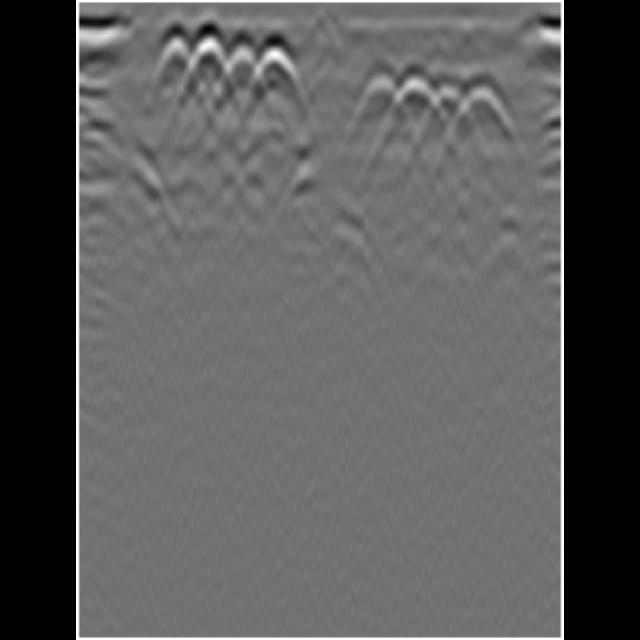hyperbola: (458, 80, 516, 140), (351, 70, 407, 124), (390, 74, 440, 128), (152, 38, 202, 86), (254, 42, 300, 94), (186, 32, 232, 82), (428, 80, 472, 132), (222, 38, 262, 88)
